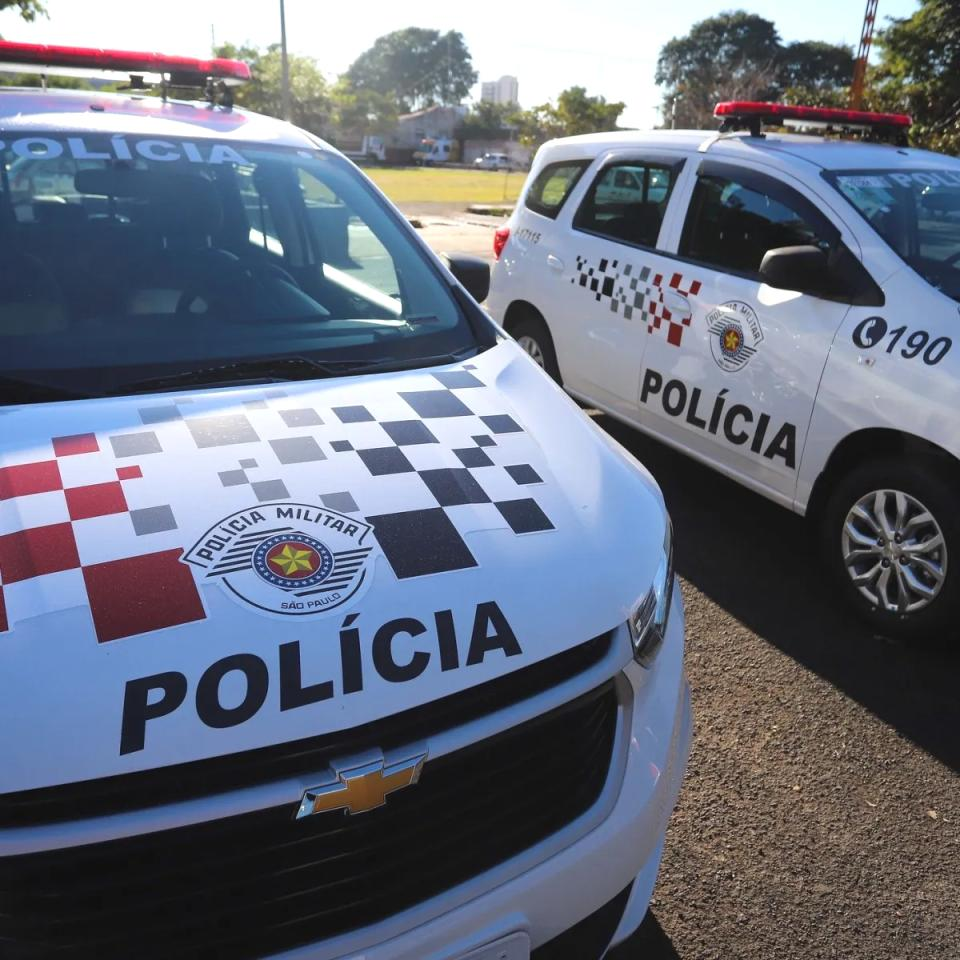viatura: (0, 42, 686, 960), (480, 96, 960, 633)
